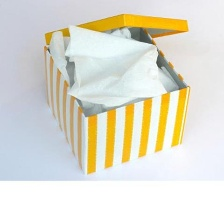book: (37, 7, 196, 179)
tissue: (59, 20, 171, 112)
